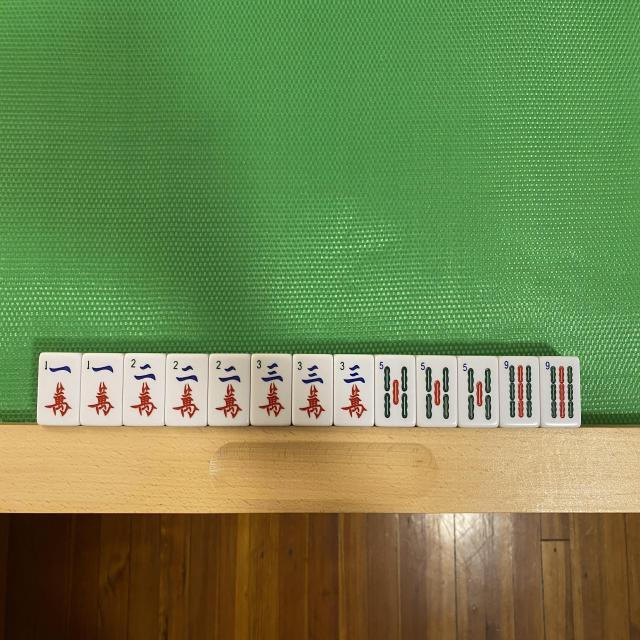sb5: (459, 360, 496, 423), (377, 358, 412, 424), (419, 360, 454, 424)
sb9: (502, 360, 536, 425), (542, 360, 576, 422)
sc1: (40, 356, 78, 424), (84, 358, 119, 422)
sc2: (210, 356, 248, 423), (168, 357, 205, 424), (126, 357, 162, 422)
sc3: (335, 358, 372, 422), (294, 359, 330, 424), (253, 357, 288, 423)
